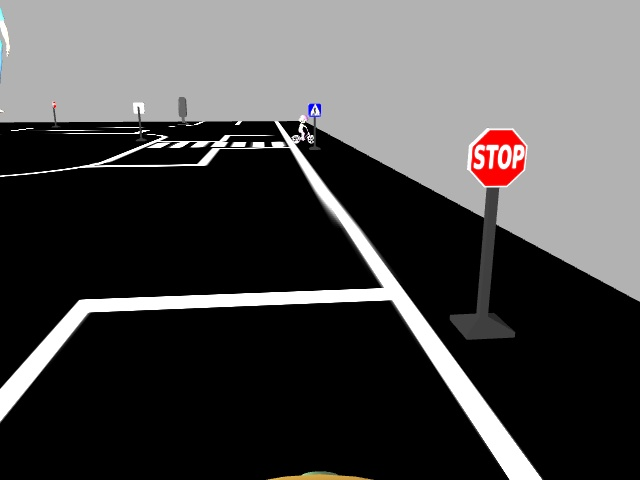Stop: (465, 127, 527, 190)
